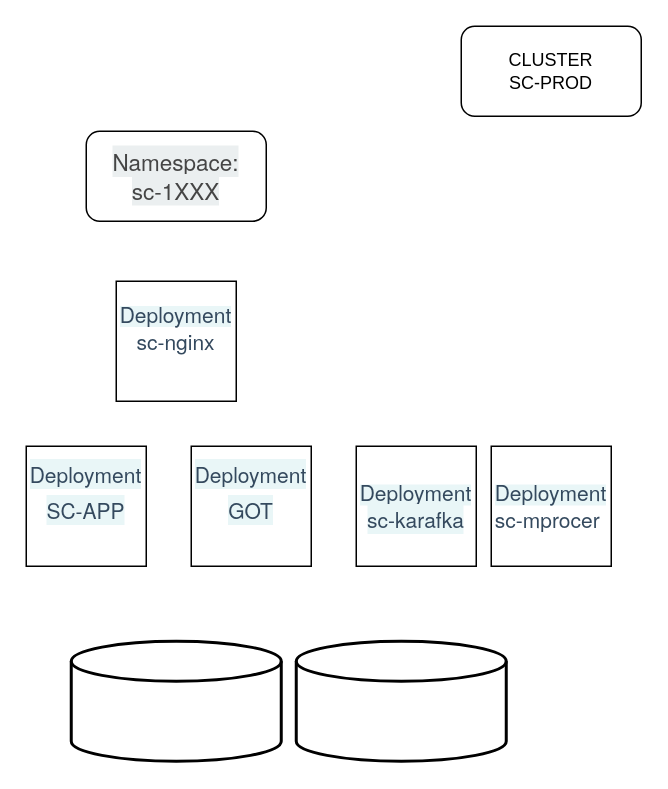
This 668x789 diagram has some shape labels left out. Each missing label, with the centre of its shape:
"Deployment sc-database-pg12" belongs at point (175, 700).
"Deployment sc-redis" belongs at point (400, 700).
